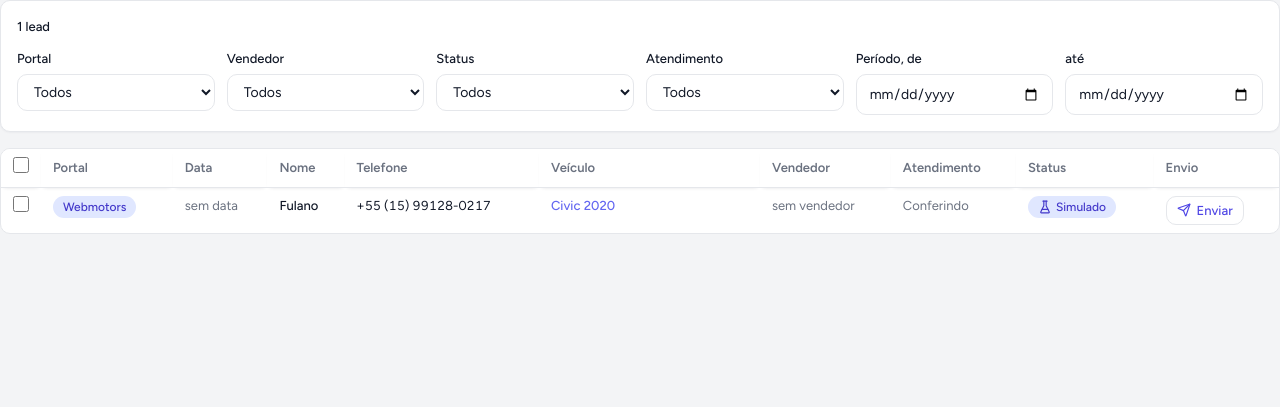
tela de leads: botao de envio por linha › depois do envio a linha mostra o novo status, sem recarregar a pagina
Expected: the text "Fulano" is shown, [268,188,344,233]
Expected: the text "Simulado" is shown, [1028,196,1116,218]
Click the button "Enviar".
click(1205, 210)  # box [1166,196,1244,225]
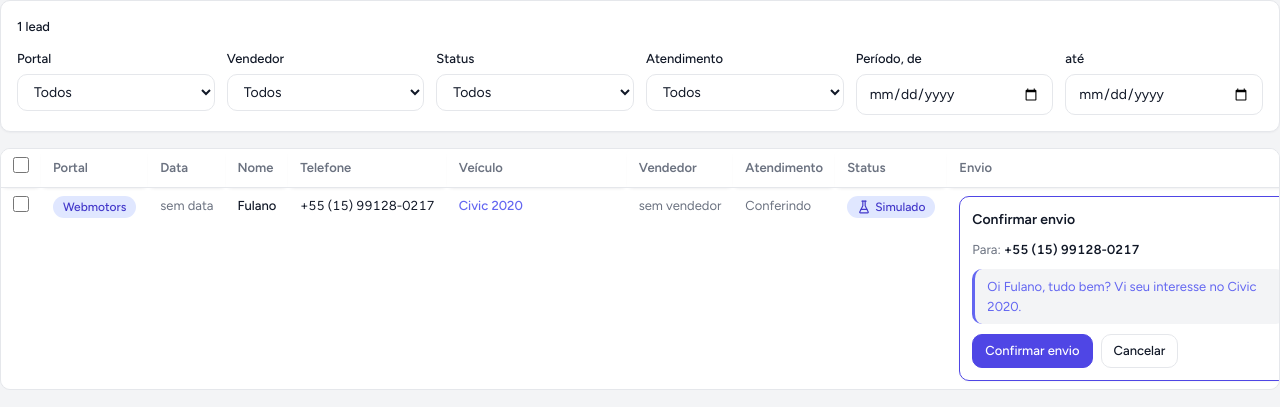
Click the button "Confirmar envio".
click(1032, 351)  # box [972,334,1093,368]
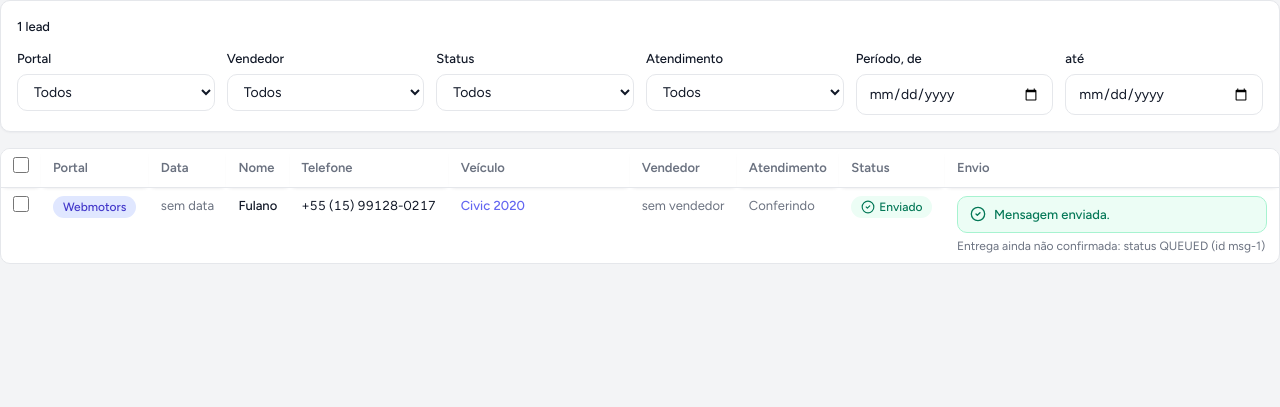
Expected: the text "Enviado" is shown, [851,196,932,218]
Expected: the text "Simulado" is gone
